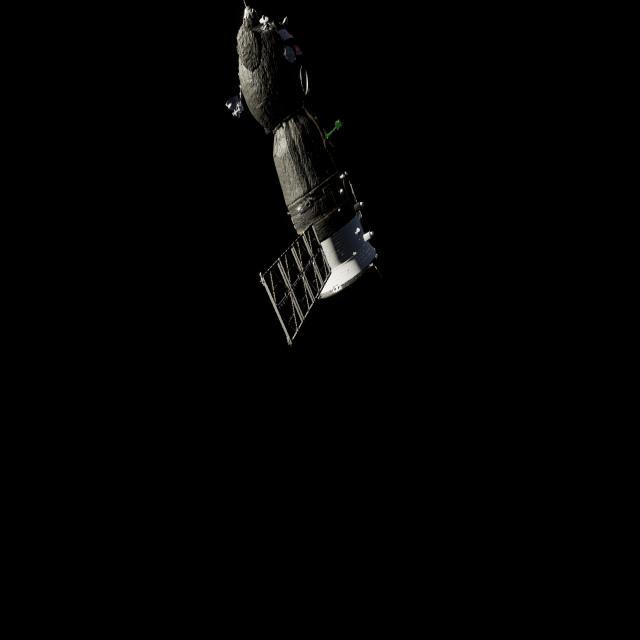Satellites revolving around earth: (224, 3, 382, 348)
